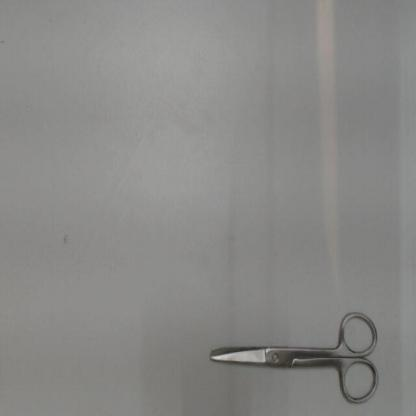Dressing Scissors: (198, 303, 384, 411)
